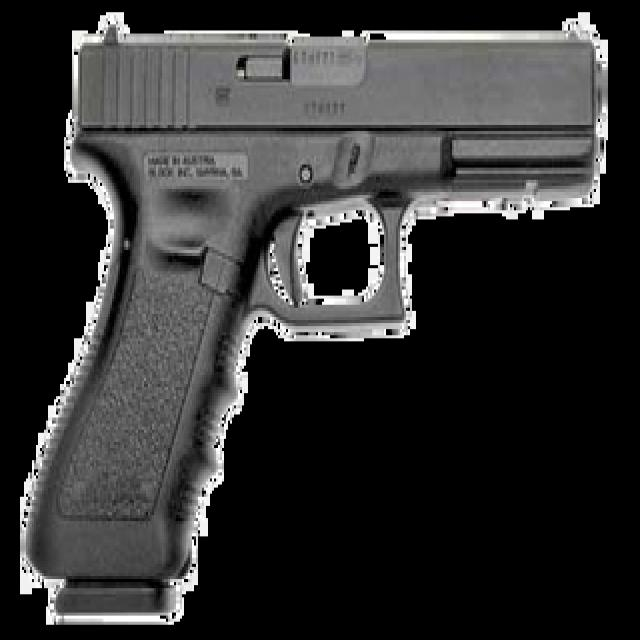HandGun: (16, 15, 610, 628)
